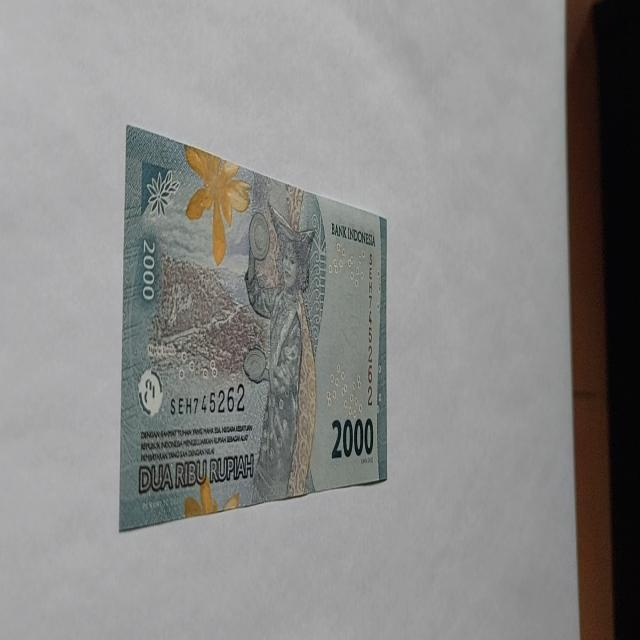dua ribu rupiah: (119, 126, 388, 530), (242, 201, 318, 505), (183, 143, 252, 267)
